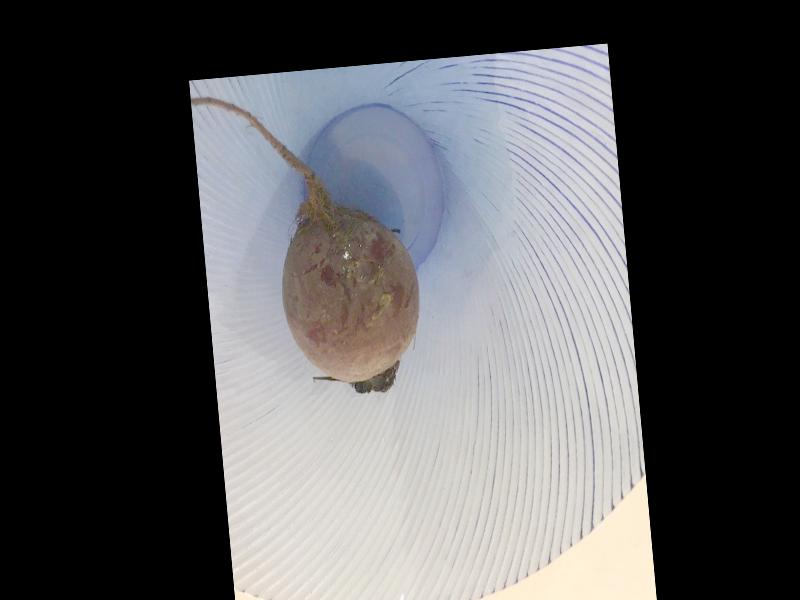Beet: (190, 80, 427, 408)
